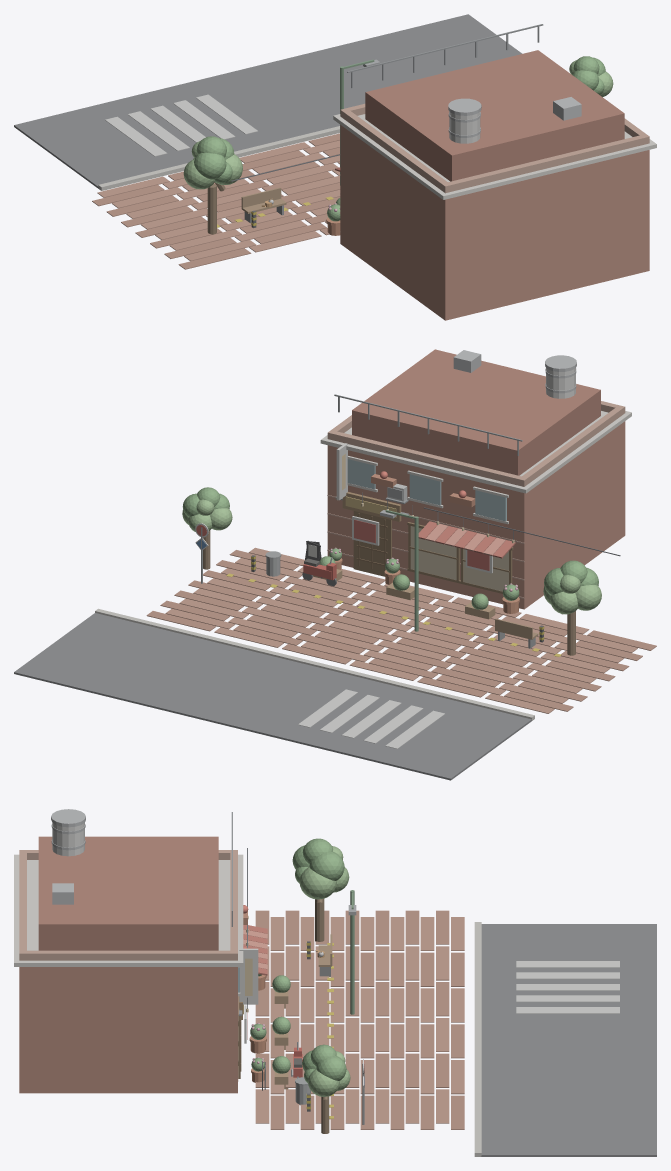
Rendered from cafe07.glb.
3 views of the same model, one above another, from view 1: azimuth 30°, elevation 25°; view 2: azimuth 150°, elevation 25°; view 3: azimuth 270°, elevation 25° (orthographic). The views are drawn at different scales.
Visible parts, largest first — view 1: geometry_0; view 2: geometry_0; view 3: geometry_0.
Part boxes in pixels (<box>): geometry_0: <box>14,14,656,320</box>; geometry_0: <box>14,349,656,780</box>; geometry_0: <box>14,809,656,1156</box>.
Bounding box in the file's own units: 20.95 × 7.88 × 23.55.
